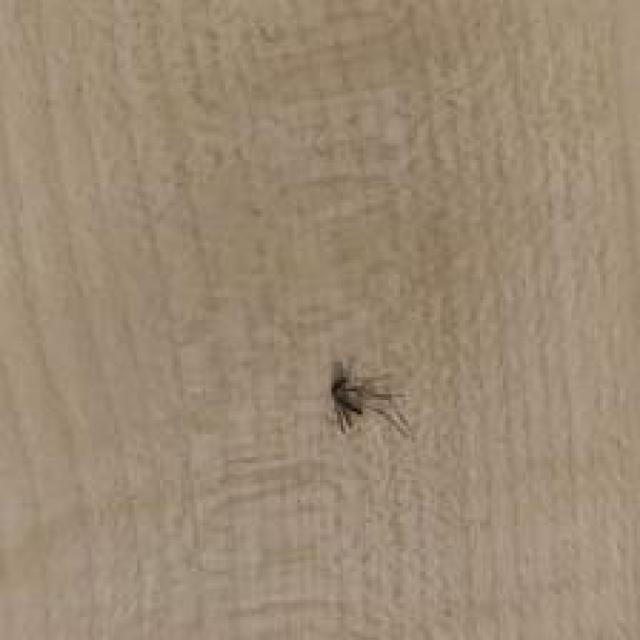Aedes albopictus: (328, 357, 412, 437)
